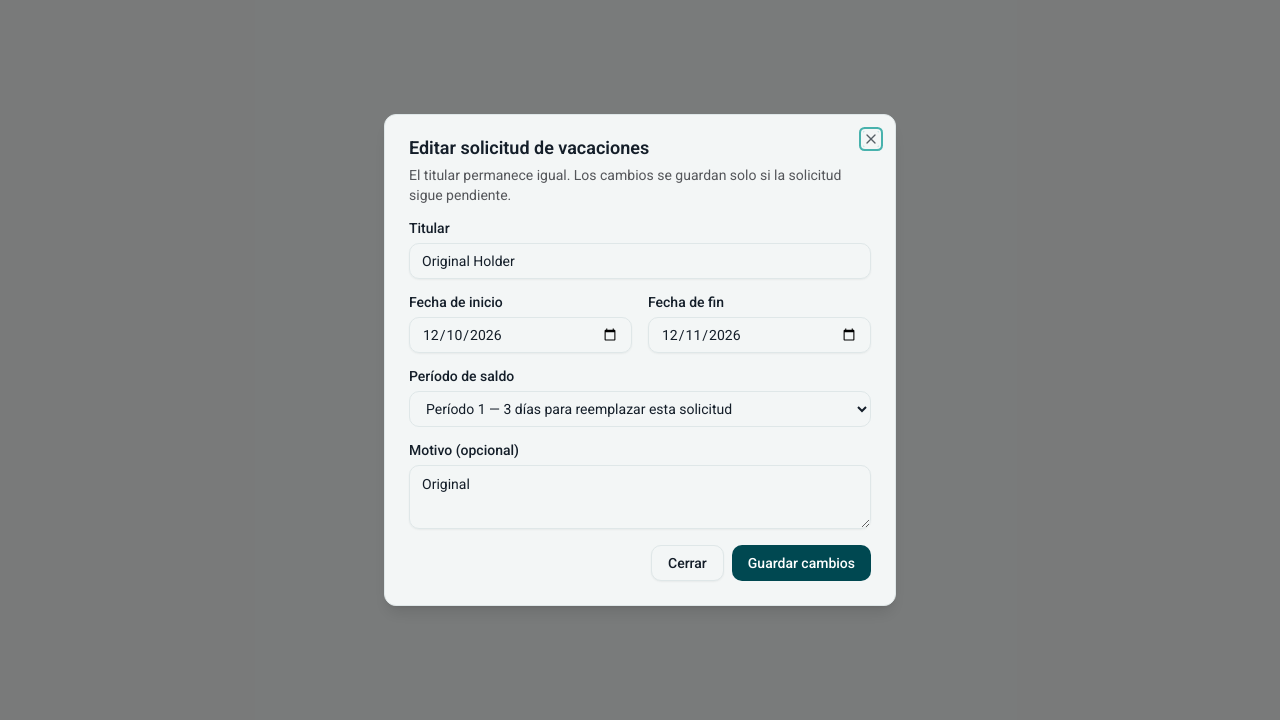
Test case: pending vacation edit dialog › retains rejected stale-status drafts and unlocks retry
Replace the text in the text box labelled "Motivo (opcional)" with "Retained draft": (640, 497) 409,465 -> 871,529
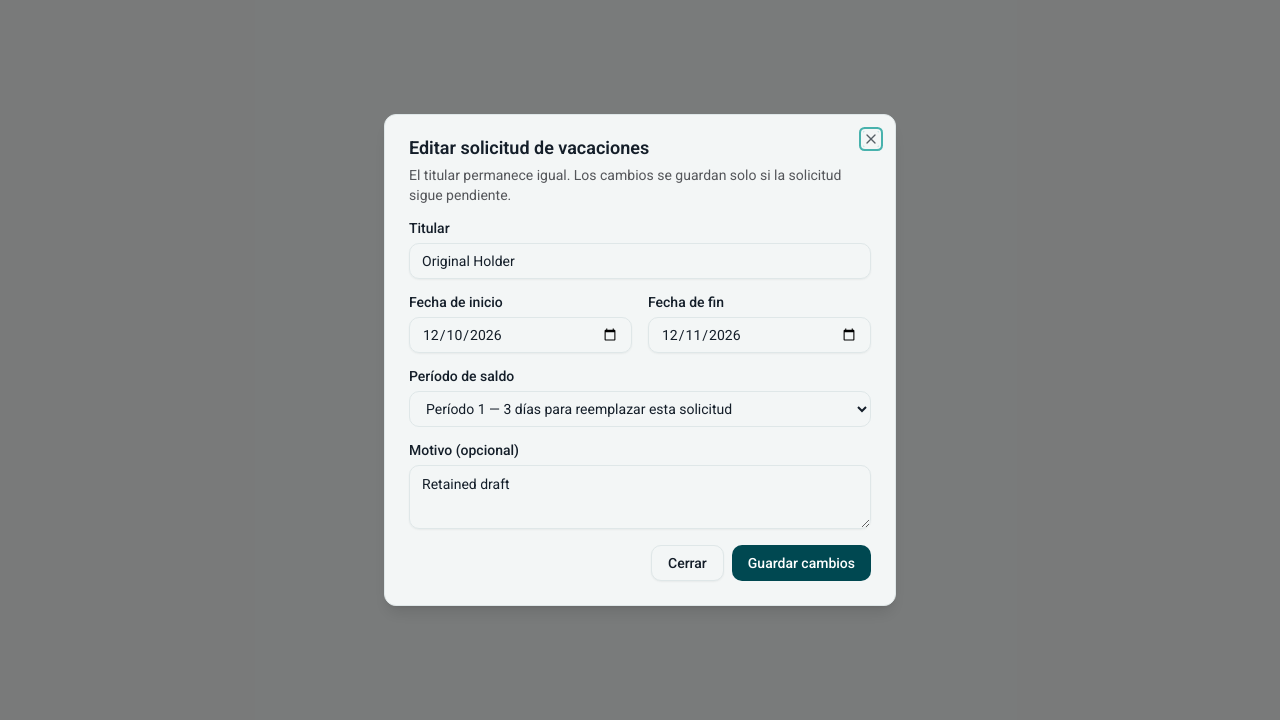
Click the button "Guardar cambios": (801, 563) 732,545 -> 871,581
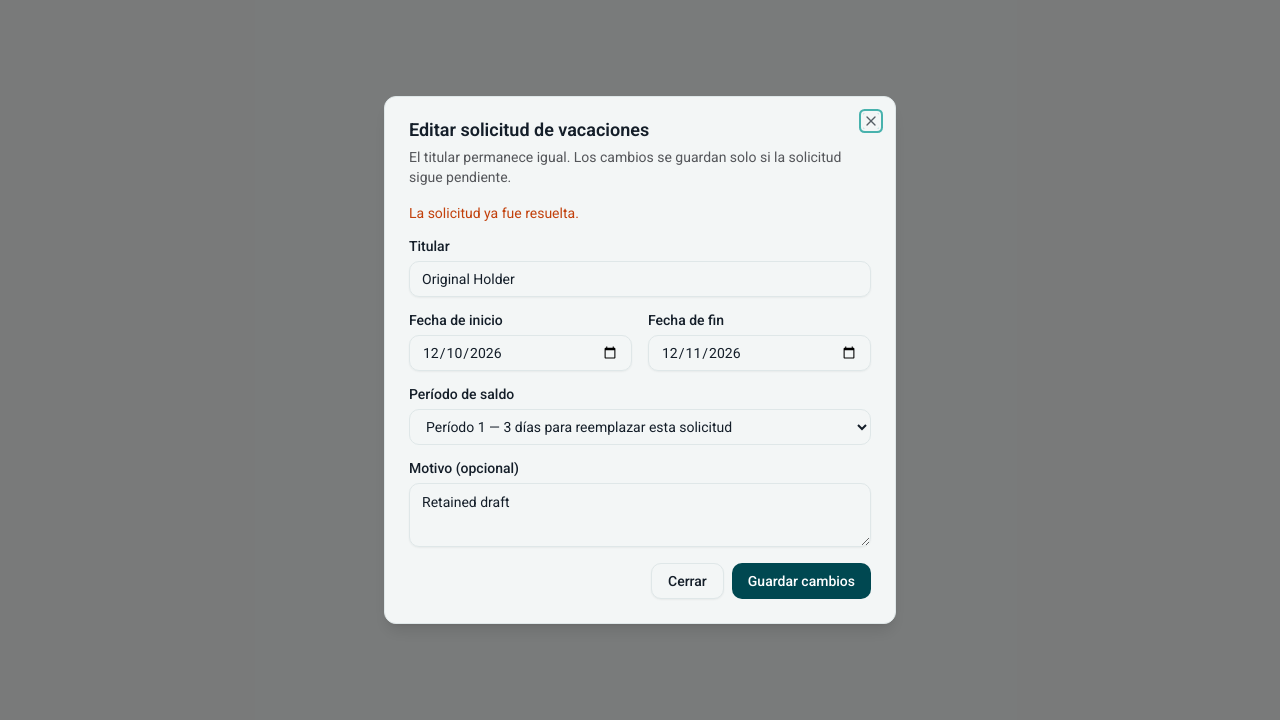
expect the button "Guardar cambios" is enabled: met, box 732,563 -> 871,599
expect the message shows "ya fue resuelta": met, box 409,205 -> 579,221
